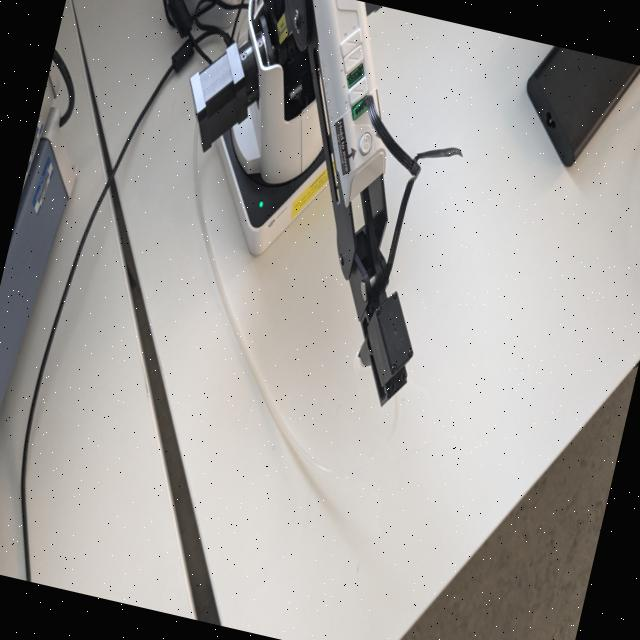Robot-end-effector-HF8z: (342, 278, 430, 414)
